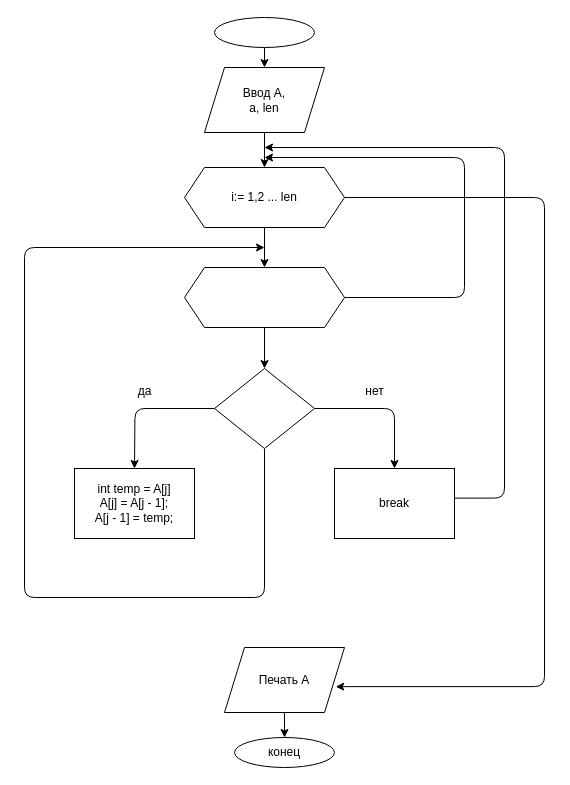
Image size: 570x785. Some labels were removed from this diagram. The box of each missing label's shape, as (x1, y1, x2, y2) in pixels:
A[j] < A[j-1}?: (214, 368, 314, 448)
j:= i, i-1 ... 0: (184, 266, 344, 328)
начало: (214, 16, 314, 48)
